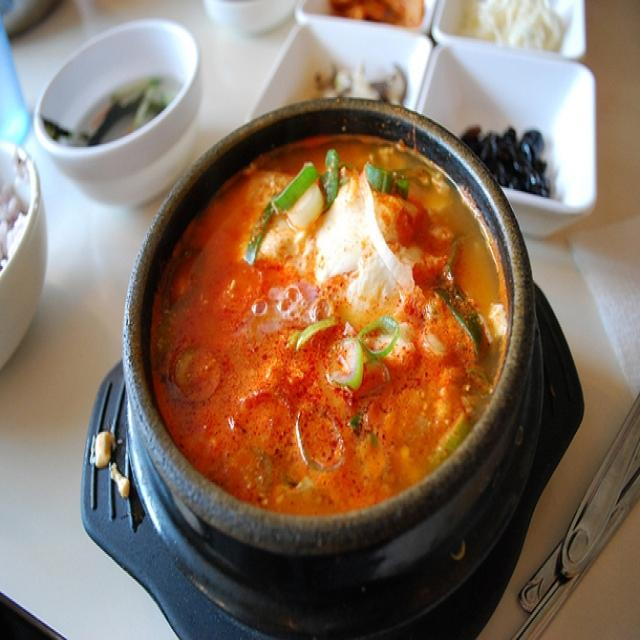汤锅炖物: (120, 130, 513, 532)
